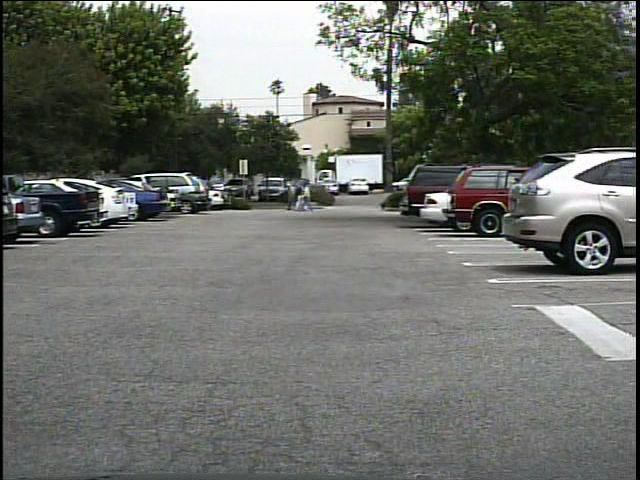person: (298, 182, 317, 213), (284, 184, 299, 214), (301, 185, 302, 215)
